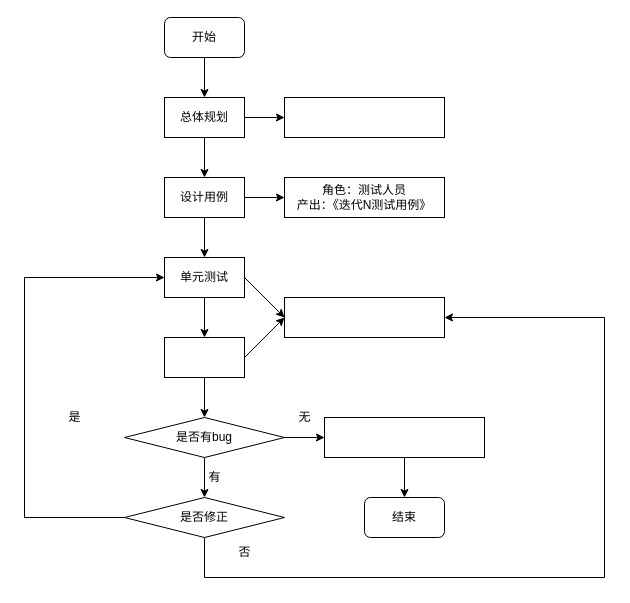
This 630x603 diagram has some shape labels left out. The shapes that lost their labels are listed below. From the top down, each one's box as (x1, y1, x2, y2) in pixels, then its label:
(284, 96, 444, 138): 角色：测试人员 产出：《迭代N测试计划》
(284, 296, 444, 338): 角色：测试人员 产出：《产品Bug汇总列表》
(164, 336, 244, 378): 集成测试
(324, 416, 484, 458): 角色：测试人员 产出：《Bug跟踪报告》
